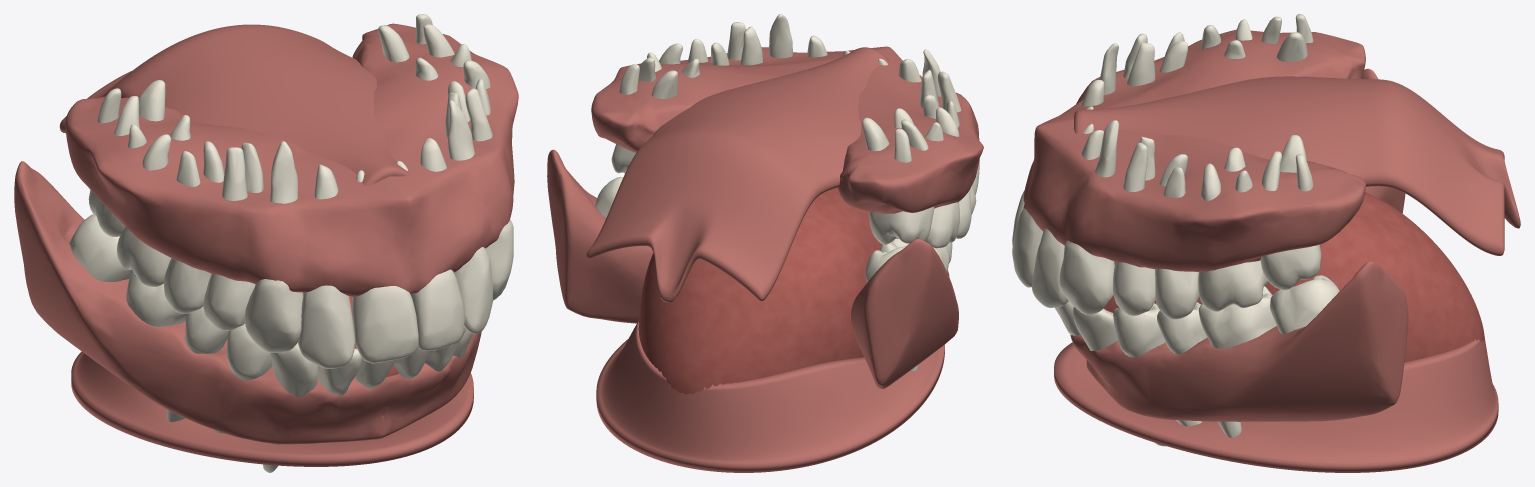
Rendered from baseline-contact.glb.
3 views of the same model, side by side, from view 1: azimuth 30°, elevation 25°; view 2: azimuth 150°, elevation 25°; view 3: azimuth 270°, elevation 25° (orthographic). The views are drawn at different scales.
Visible parts, largest first — view 1: UPPER_GINGIVA, UPPER_DENTITION, LOWER_GINGIVA, PALATE, ORAL_FLOOR, LOWER_DENTITION; view 2: PALATE, ORAL_FLOOR, TONGUE, UPPER_GINGIVA, LOWER_GINGIVA, UPPER_DENTITION, LOWER_DENTITION; view 3: UPPER_GINGIVA, PALATE, LOWER_GINGIVA, UPPER_DENTITION, ORAL_FLOOR, TONGUE, LOWER_DENTITION.
Part boxes in pixels (x1,y1,x2,y2): UPPER_GINGIVA: (65,23,518,296); UPPER_DENTITION: (88,14,513,368); LOWER_GINGIVA: (14,161,481,444); PALATE: (59,24,410,185); ORAL_FLOOR: (71,351,473,466); LOWER_DENTITION: (69,214,472,472); PALATE: (586,47,889,302); ORAL_FLOOR: (596,321,944,472); TONGUE: (638,187,882,394); UPPER_GINGIVA: (591,46,983,213); LOWER_GINGIVA: (547,149,958,388); UPPER_DENTITION: (611,14,979,248); LOWER_DENTITION: (595,177,952,370); UPPER_GINGIVA: (1023,29,1365,272); PALATE: (1074,76,1520,255); LOWER_GINGIVA: (1070,68,1408,421); UPPER_DENTITION: (1012,14,1321,319); ORAL_FLOOR: (1054,338,1498,472); TONGUE: (1104,192,1484,362); LOWER_DENTITION: (1055,275,1339,446).
Bounding box in the file's own units: 0.0735 × 0.0581 × 0.0778.
Materials: 3 (1 with a texture image).
